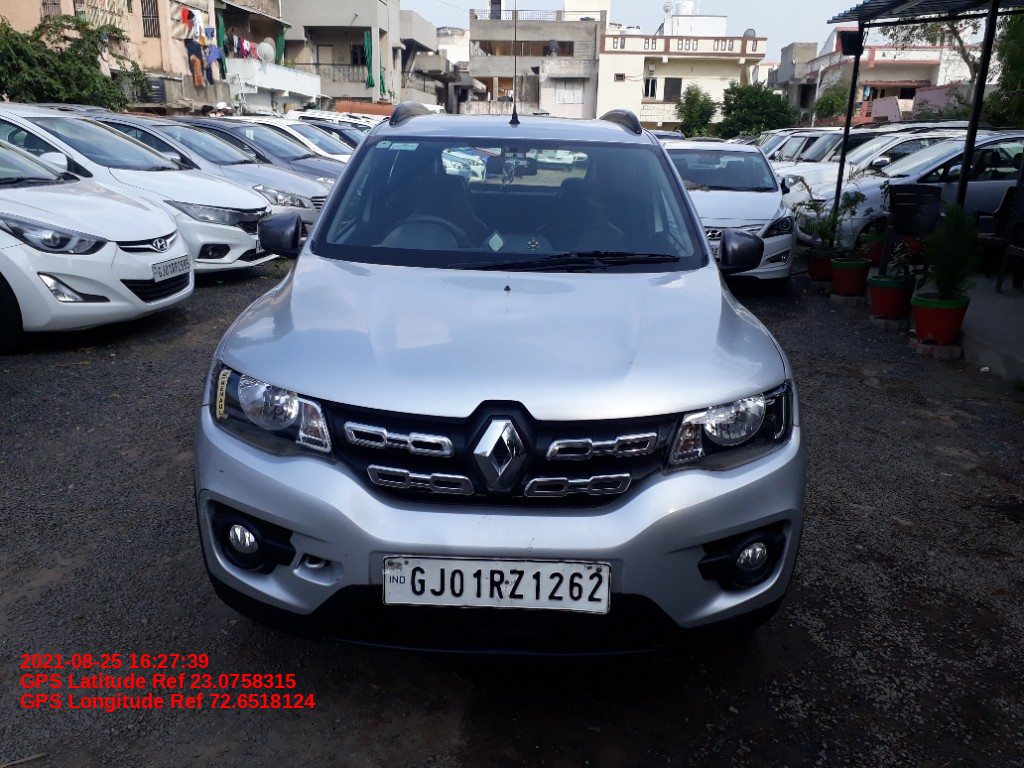Scratched: (194, 483, 213, 521), (525, 535, 539, 557), (214, 465, 230, 477), (625, 360, 643, 370), (333, 575, 346, 586), (343, 551, 353, 560)
